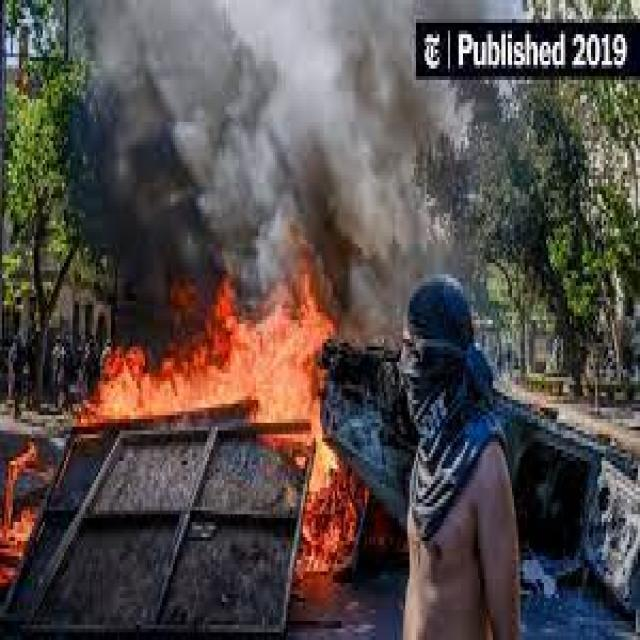Fire: (73, 251, 337, 431), (294, 432, 368, 600), (0, 426, 49, 584), (258, 424, 318, 472)
Smoke: (176, 3, 418, 248), (96, 3, 174, 343), (340, 248, 402, 354), (399, 210, 468, 280)
